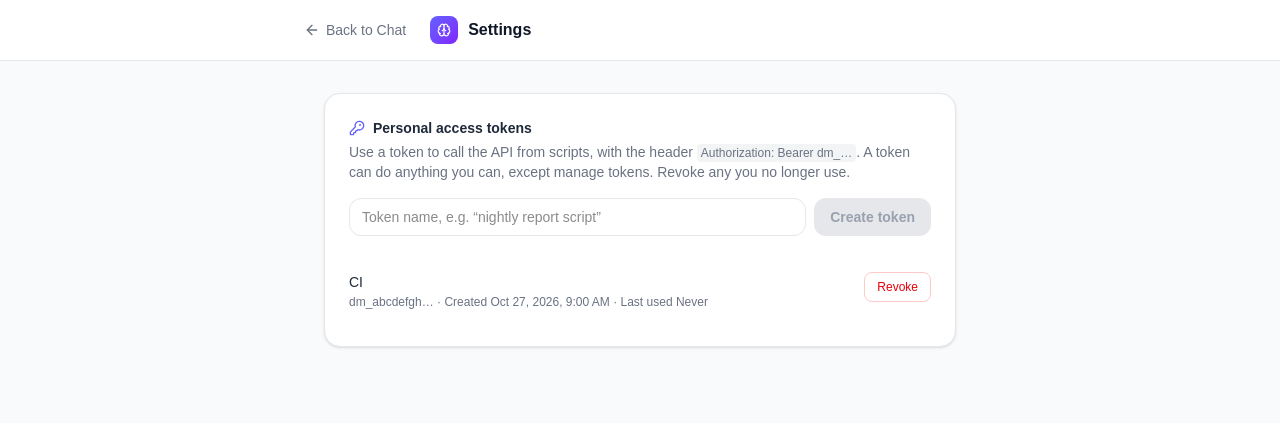
settings: personal access tokens › reports a failed revoke and keeps the token
This screenshot has width=1280, height=423.
What coordinates should you click on to do the following:
click the button with aria-label "Revoke CI"
I would click on:
 (898, 287)
Its box is [864,272,931,302].
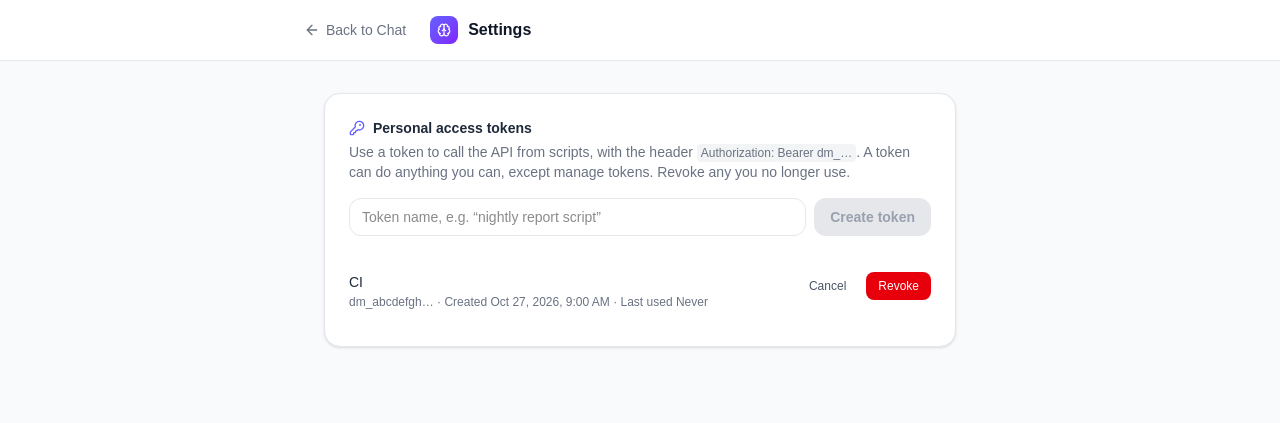
What coordinates should you click on to do the following:
click the button with aria-label "Confirm revoking CI"
I would click on:
 (899, 286)
Its box is [866,272,931,300].
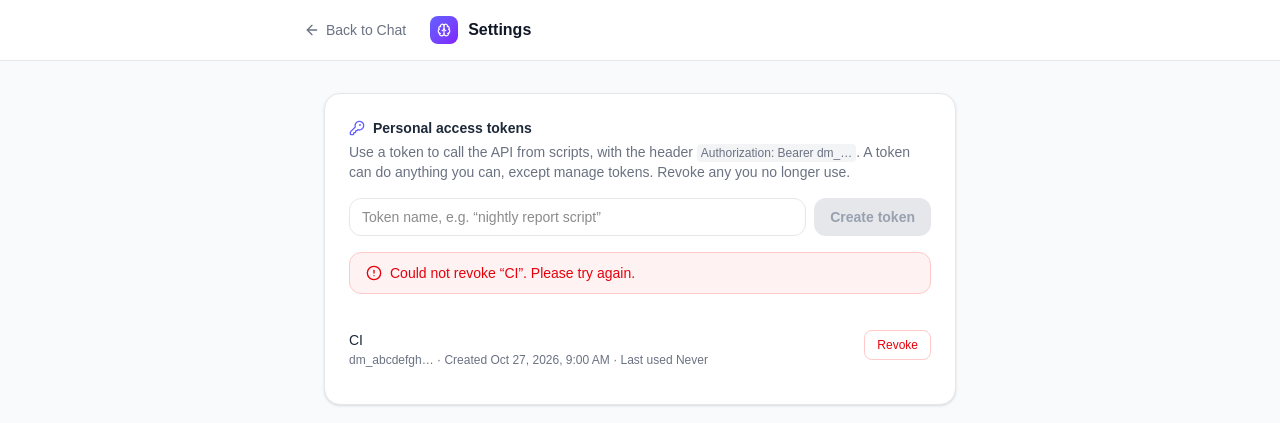
expect the message shows "Could not revoke “CI”": met, box [390,265,635,281]
expect the button with aria-label "Revoke CI" is shown: met, box [864,330,931,360]
